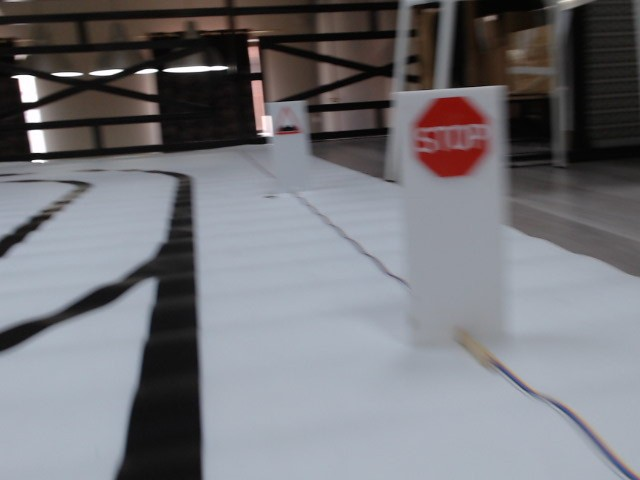Nerov: (272, 107, 301, 137)
Stop: (413, 98, 488, 174)
